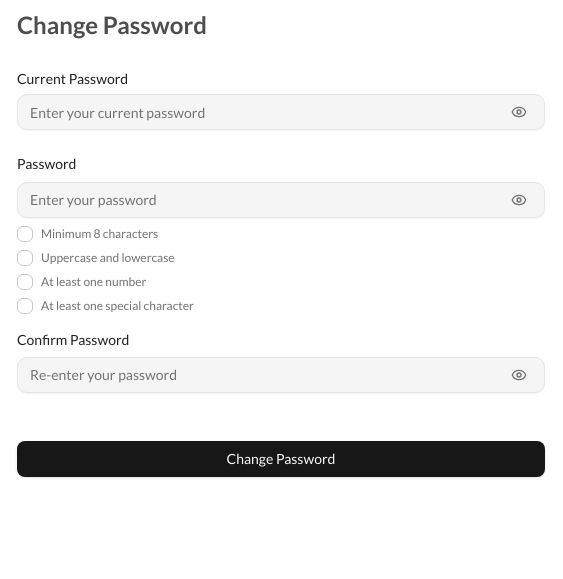
ChangePassword Component › Error Handling › should display generic error message for other errors
Type "OldPass1!" into the password field labelled "Current Password" at (281, 112), box [17,94,545,130]
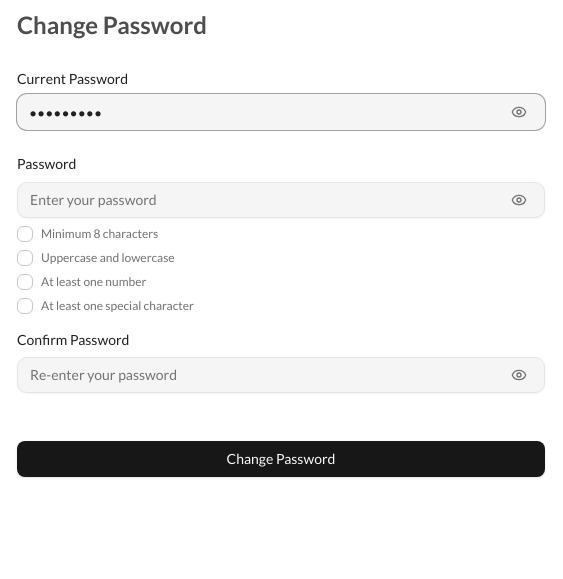
Type "NewPass1!" into the password field labelled "Password" at (281, 200), box [17,182,545,218]
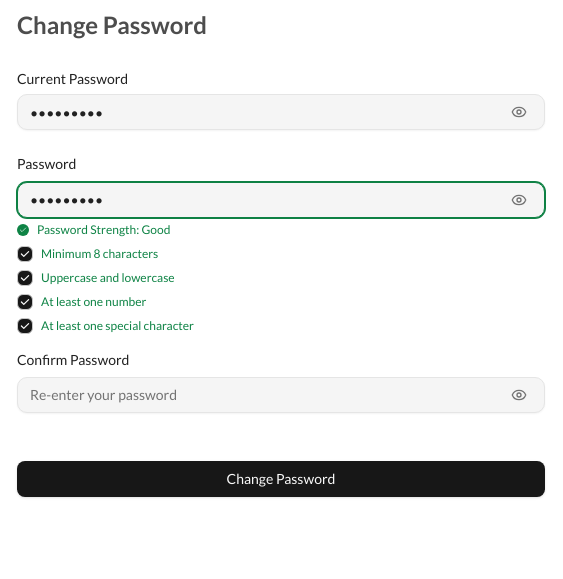
Type "NewPass1!" into the password field labelled "Confirm Password" at (281, 395), box [17,377,545,413]
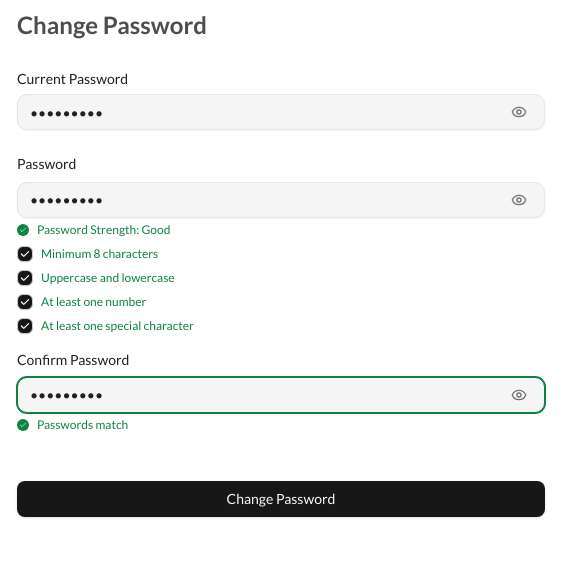
Click the button "Change Password" at (281, 499), box [17,481,545,517]
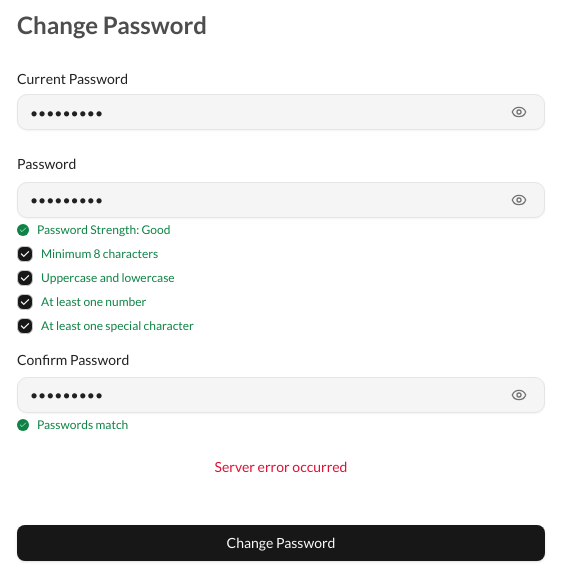
Expected: the text "Server error occurred" is shown, [214,458,347,475]
